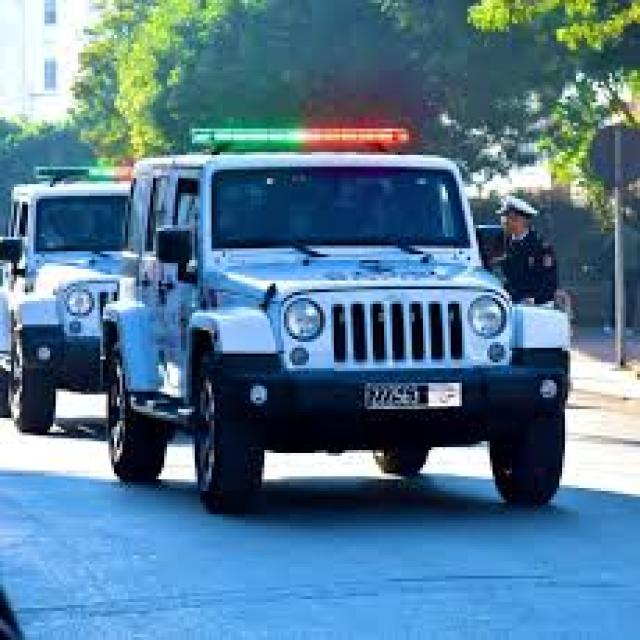Police car: (97, 114, 574, 514), (0, 149, 154, 441)
